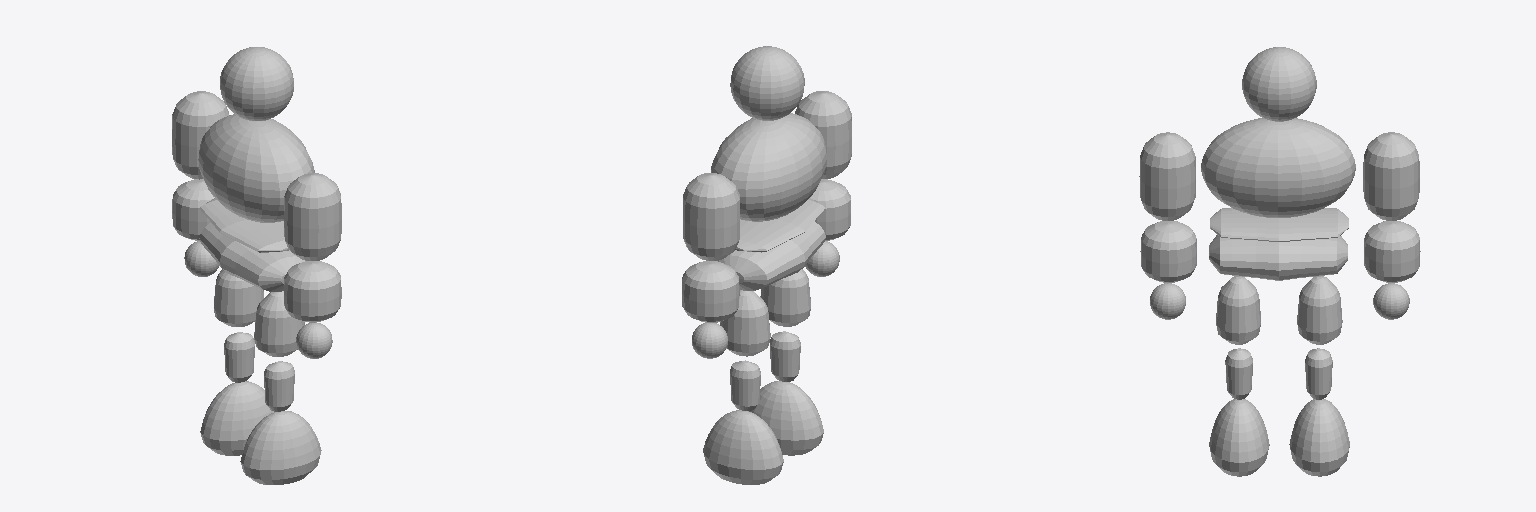
File: PTwo0.obj
3 renders of one model, left to right at view 1: azimuth 30°, elevation 25°; view 2: azimuth 150°, elevation 25°; view 3: azimuth 270°, elevation 25°, orthographic.
Visible parts, largest first — view 1: pSphere1, pasted__pasted__pasted__pSphere1 pasted__pasted__group pasted__g, pasted__pCylinder2 group12, pSphere3, pasted__pasted__pSphere1 pasted__group group3, pasted__pasted__pasted__pCylinder1 pasted__pasted__group4 pasted, pCylinder1, pasted__pasted__pCylinder2 pasted__group13 group14, pCylinder2, pasted__pCylinder1 group11, pasted__pasted__pasted__pasted__pCylinder1 pasted__pasted__paste, pasted__pasted__pasted__pCylinder2 pasted__pasted__group13 paste (+3 smaller); view 2: pSphere1, pasted__pasted__pSphere1 pasted__group group3, pSphere3, pCylinder2, pasted__pasted__pasted__pCylinder1 pasted__pasted__group4 pasted, pasted__pasted__pasted__pSphere1 pasted__pasted__group pasted__g, pCylinder1, pasted__pasted__pasted__pCylinder2 pasted__pasted__group13 paste, pasted__pCylinder2 group12, pasted__pCylinder1 group11, pasted__pasted__pasted__pasted__pCylinder1 pasted__pasted__paste, pasted__pasted__pCylinder2 pasted__group13 group14 (+3 smaller); view 3: pSphere1, pCylinder1, pSphere3, pCylinder2, pasted__pCylinder2 group12, pasted__pasted__pasted__pCylinder1 pasted__pasted__group4 pasted, pasted__pasted__pSphere1 pasted__group group3, pasted__pasted__pasted__pSphere1 pasted__pasted__group pasted__g, pasted__pCylinder1 group11, pasted__pasted__pasted__pCylinder2 pasted__pasted__group13 paste, pasted__pasted__pCylinder2 pasted__group13 group14, pasted__pasted__pasted__pasted__pCylinder1 pasted__pasted__paste (+3 smaller).
Boxes of the visible parts, <box> form: pSphere1: <box>198,114,314,222</box>; pasted__pasted__pasted__pSphere1 pasted__pasted__group pasted__g: <box>240,411,321,484</box>; pasted__pCylinder2 group12: <box>284,173,341,260</box>; pSphere3: <box>220,47,293,120</box>; pasted__pasted__pSphere1 pasted__group group3: <box>200,381,273,455</box>; pasted__pasted__pasted__pCylinder1 pasted__pasted__group4 pasted: <box>214,269,294,411</box>; pCylinder1: <box>199,222,304,291</box>; pasted__pasted__pCylinder2 pasted__group13 group14: <box>284,261,341,322</box>; pCylinder2: <box>172,91,228,179</box>; pasted__pCylinder1 group11: <box>199,198,288,252</box>; pasted__pasted__pasted__pasted__pCylinder1 pasted__pasted__paste: <box>254,291,304,356</box>; pasted__pasted__pasted__pCylinder2 pasted__pasted__group13 paste: <box>172,179,214,240</box>; pSphere1: <box>711,113,826,221</box>; pasted__pasted__pSphere1 pasted__group group3: <box>703,410,783,484</box>; pSphere3: <box>730,46,804,120</box>; pCylinder2: <box>683,173,740,260</box>; pasted__pasted__pasted__pCylinder1 pasted__pasted__group4 pasted: <box>720,290,800,381</box>; pasted__pasted__pasted__pSphere1 pasted__pasted__group pasted__g: <box>749,381,823,455</box>; pCylinder1: <box>718,221,825,290</box>; pasted__pasted__pasted__pCylinder2 pasted__pasted__group13 paste: <box>682,261,739,322</box>; pasted__pCylinder2 group12: <box>795,91,851,178</box>; pasted__pCylinder1 group11: <box>735,198,824,252</box>; pasted__pasted__pasted__pasted__pCylinder1 pasted__pasted__paste: <box>760,269,810,326</box>; pasted__pasted__pCylinder2 pasted__group13 group14: <box>810,179,850,240</box>; pSphere1: <box>1201,118,1355,217</box>; pCylinder1: <box>1209,235,1347,280</box>; pSphere3: <box>1242,47,1316,121</box>; pCylinder2: <box>1363,132,1419,220</box>; pasted__pCylinder2 group12: <box>1139,132,1195,220</box>; pasted__pasted__pasted__pCylinder1 pasted__pasted__group4 pasted: <box>1225,276,1342,399</box>; pasted__pasted__pSphere1 pasted__group group3: <box>1289,399,1349,476</box>; pasted__pasted__pasted__pSphere1 pasted__pasted__group pasted__g: <box>1209,399,1269,476</box>; pasted__pCylinder1 group11: <box>1210,208,1348,241</box>; pasted__pasted__pasted__pCylinder2 pasted__pasted__group13 paste: <box>1364,221,1420,282</box>; pasted__pasted__pCylinder2 pasted__group13 group14: <box>1140,221,1196,282</box>; pasted__pasted__pasted__pasted__pCylinder1 pasted__pasted__paste: <box>1216,276,1260,344</box>.
Size of the model in its own units: 1.45 by 6.49 by 4.01.